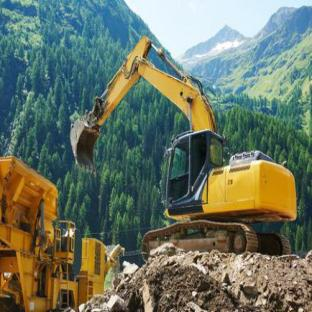ExcavationMachinery: (60, 34, 303, 255)
